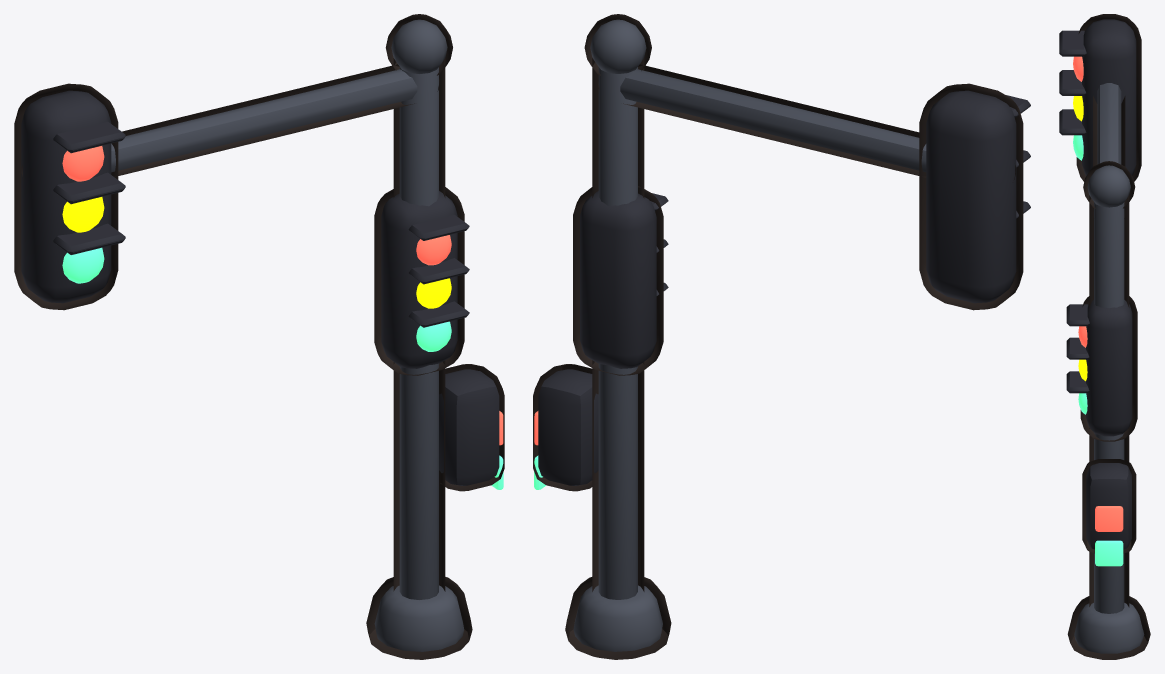
Rendered from TrafficLight.fbx.
The picture shows the model from 3 angles, left to right: view 1: azimuth 30°, elevation 25°; view 2: azimuth 150°, elevation 25°; view 3: azimuth 270°, elevation 25°; orthographic projection. The views are drawn at different scales.
Parts seen in each view (by area): view 1: PR_TrafficLight_Black, PR_TrafficLight_Metal, PR_TrafficLight_Outline, PR_TrafficLight_LampGreen, PR_TrafficLight_LampYellow, PR_TrafficLight_LampRed; view 2: PR_TrafficLight_Black, PR_TrafficLight_Metal, PR_TrafficLight_Outline; view 3: PR_TrafficLight_Black, PR_TrafficLight_Metal, PR_TrafficLight_Outline, PR_TrafficLight_PedGreen, PR_TrafficLight_PedRed, PR_TrafficLight_LampRed, PR_TrafficLight_LampGreen, PR_TrafficLight_LampYellow.
Boxes of the visible parts, x1,y1,x2,y2 form: PR_TrafficLight_Black: (21,90,499,485); PR_TrafficLight_Metal: (111,19,464,651); PR_TrafficLight_Outline: (14,14,504,659); PR_TrafficLight_LampGreen: (62,247,451,351); PR_TrafficLight_LampYellow: (62,197,451,308); PR_TrafficLight_LampRed: (62,146,451,265); PR_TrafficLight_Black: (538,90,1030,485); PR_TrafficLight_Metal: (573,19,926,651); PR_TrafficLight_Outline: (533,14,1023,659); PR_TrafficLight_Black: (1059,19,1136,549); PR_TrafficLight_Metal: (1074,83,1144,653); PR_TrafficLight_Outline: (1067,14,1150,659); PR_TrafficLight_PedGreen: (1095,540,1123,566); PR_TrafficLight_PedRed: (1095,506,1123,531); PR_TrafficLight_LampRed: (1073,56,1087,347); PR_TrafficLight_LampGreen: (1073,135,1087,414); PR_TrafficLight_LampYellow: (1073,96,1087,381).
Size of the model in its own units: 3.89 by 5.01 by 0.8421.
